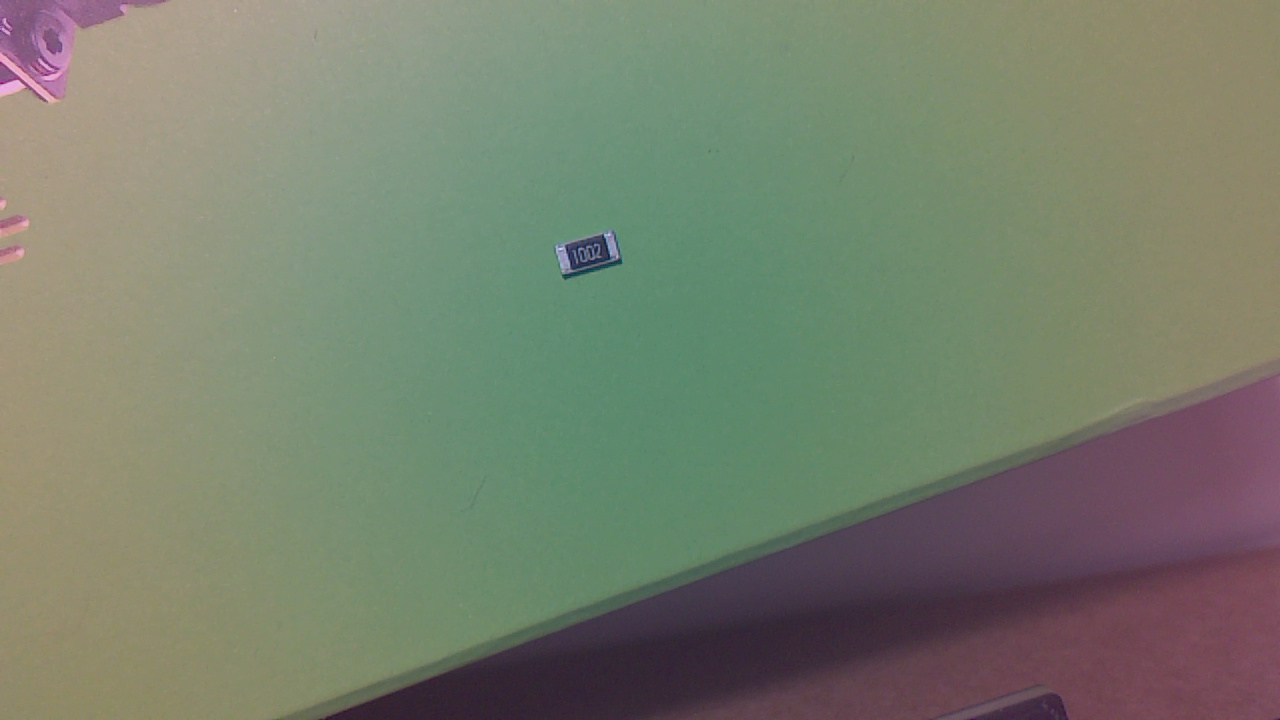Resistor: (559, 233, 629, 287)
